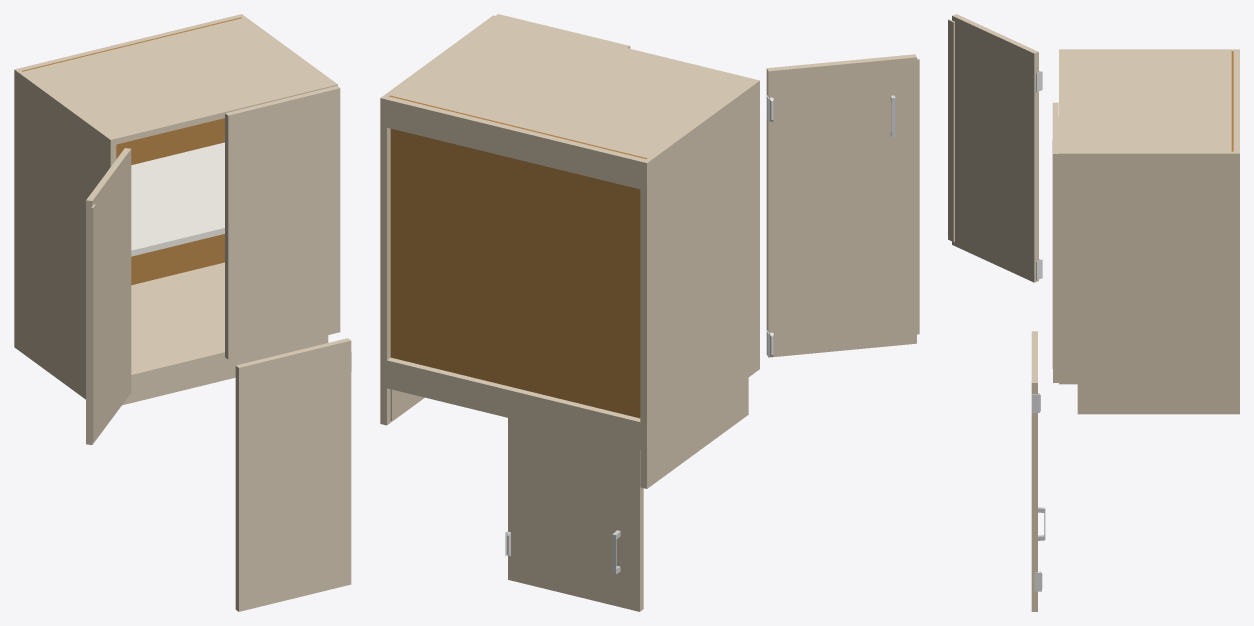
Rendered from base_cabinet.gltf.
3 views of the same model, side by side, from view 1: azimuth 30°, elevation 25°; view 2: azimuth 150°, elevation 25°; view 3: azimuth 270°, elevation 25° (orthographic). The views are drawn at different scales.
Parts seen in each view (by area): view 1: Mesh_3, Mesh_3.002, Mesh_8, Mesh_10, Mesh_13, Mesh_9, Mesh_12, Mesh_5, Mesh_11, Mesh_14, Mesh_4, Mesh_7; view 2: Mesh_5, Mesh_13, Mesh_8, Mesh_10, Mesh_3, Mesh_4, Mesh_6, Mesh_7, Mesh_14; view 3: Mesh_7, Mesh_13, Mesh_10, Mesh_3.002, Mesh_3, Mesh_14, Mesh_4, Mesh_8.
Boxes of the visible parts, left/top/right/bottom form: Mesh_3: left=235, top=338, right=351, bottom=611; Mesh_3.002: left=225, top=86, right=340, bottom=359; Mesh_8: left=14, top=68, right=116, bottom=399; Mesh_10: left=25, top=18, right=332, bottom=144; Mesh_13: left=86, top=148, right=131, bottom=444; Mesh_9: left=131, top=262, right=225, bottom=380; Mesh_12: left=131, top=142, right=224, bottom=256; Mesh_5: left=22, top=17, right=241, bottom=285; Mesh_11: left=122, top=335, right=328, bottom=405; Mesh_14: left=91, top=204, right=95, bottom=441; Mesh_4: left=20, top=15, right=238, bottom=70; Mesh_7: left=236, top=14, right=337, bottom=86; Mesh_5: left=389, top=95, right=647, bottom=418; Mesh_13: left=766, top=54, right=916, bottom=357; Mesh_8: left=640, top=79, right=759, bottom=488; Mesh_10: left=392, top=17, right=752, bottom=157; Mesh_3: left=508, top=418, right=643, bottom=611; Mesh_4: left=387, top=97, right=643, bottom=189; Mesh_6: left=387, top=357, right=640, bottom=449; Mesh_7: left=380, top=15, right=499, bottom=425; Mesh_14: left=917, top=58, right=919, bottom=334; Mesh_7: left=1059, top=151, right=1239, bottom=414; Mesh_13: left=952, top=14, right=1038, bottom=282; Mesh_10: left=1059, top=52, right=1231, bottom=150; Mesh_3.002: left=1052, top=102, right=1058, bottom=382; Mesh_3: left=1031, top=331, right=1037, bottom=611; Mesh_14: left=948, top=19, right=954, bottom=241; Mesh_4: left=1233, top=52, right=1239, bottom=150; Mesh_8: left=1059, top=49, right=1239, bottom=51.
Size of the model in its own units: 1.03 by 1.57 by 0.9019.
